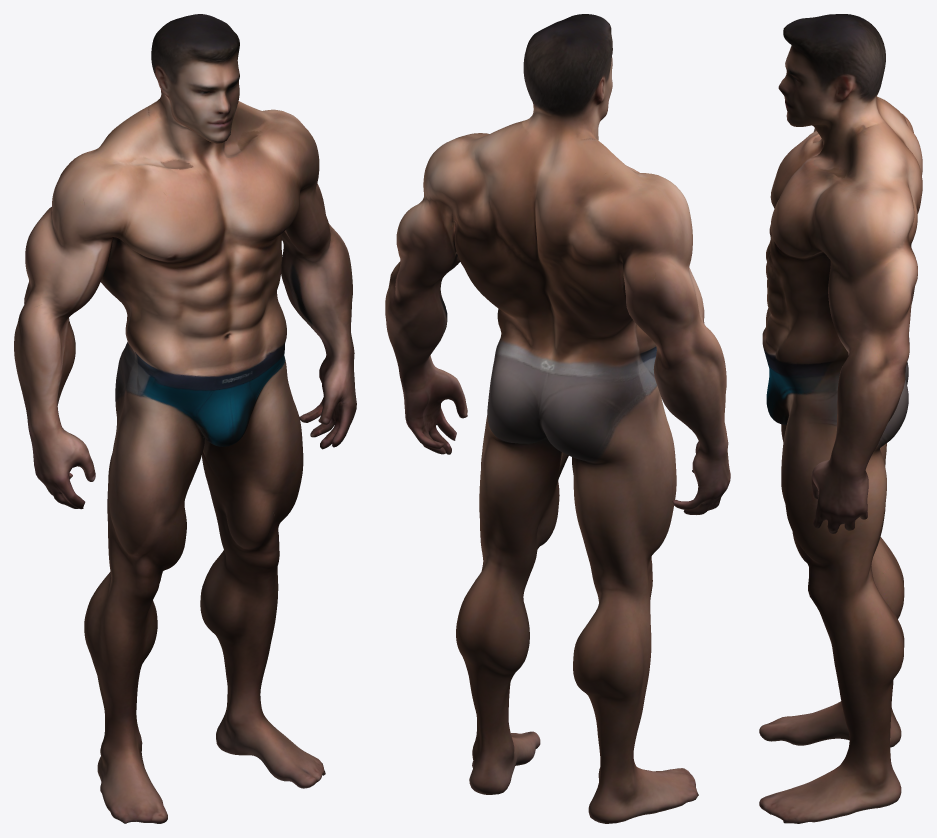
Rendered from meso.glb.
3 renders of one model, left to right at view 1: azimuth 30°, elevation 25°; view 2: azimuth 150°, elevation 25°; view 3: azimuth 270°, elevation 25°, orthographic.
Size of the model in its own units: 0.9002 by 2 by 0.3913.
Materials: 1 (1 with a texture image).
